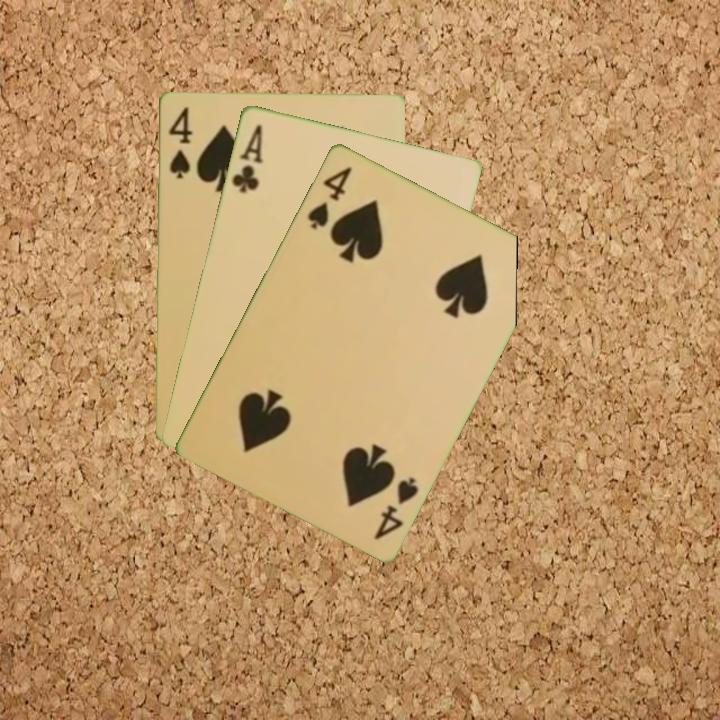4s: (303, 162, 355, 232), (370, 473, 421, 543), (165, 102, 195, 181)
Ac: (228, 120, 266, 195)
